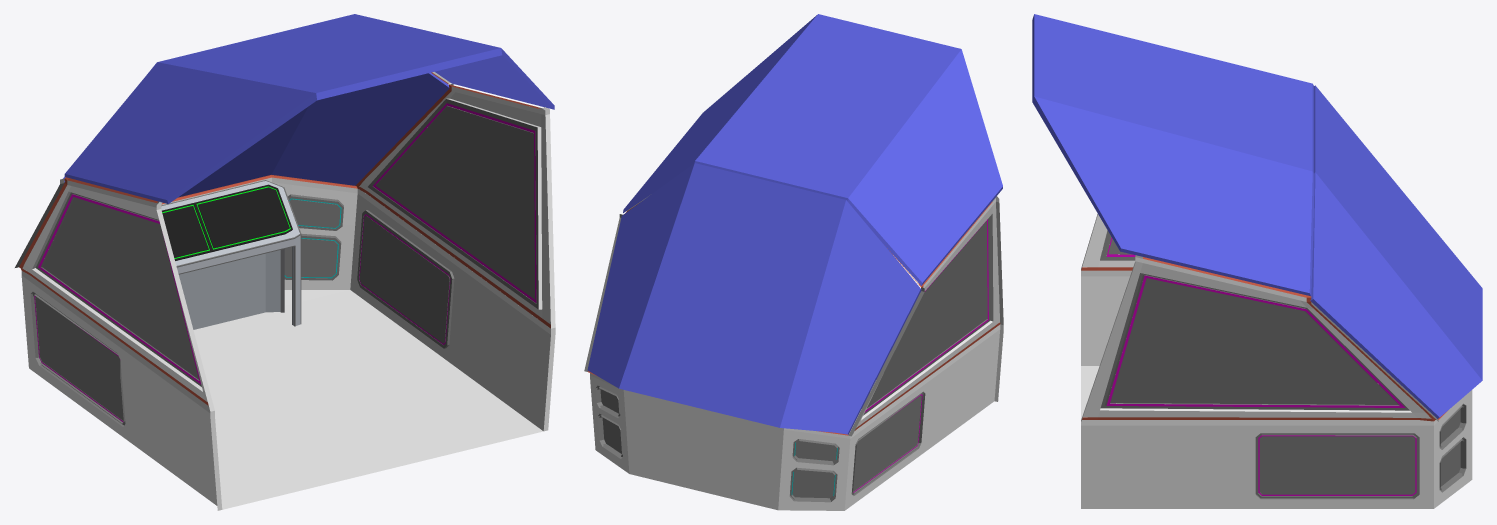
File: spaceship-model.glb
3 views of the same model, side by side, from view 1: azimuth 30°, elevation 25°; view 2: azimuth 150°, elevation 25°; view 3: azimuth 270°, elevation 25° (orthographic). The views are drawn at different scales.
Visible parts, largest first — view 1: merged; view 2: merged; view 3: merged.
Boxes of the visible parts, box(x1,y1,x2,y2) form: merged: box(15, 14, 555, 510); merged: box(584, 14, 1003, 510); merged: box(1032, 14, 1482, 508).
Size of the model in its own units: 8.06 by 8.28 by 8.76.
